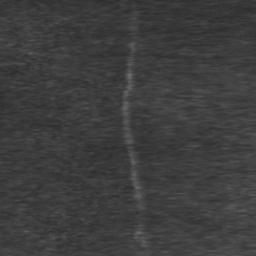Bright scratch: (121, 0, 151, 256)
